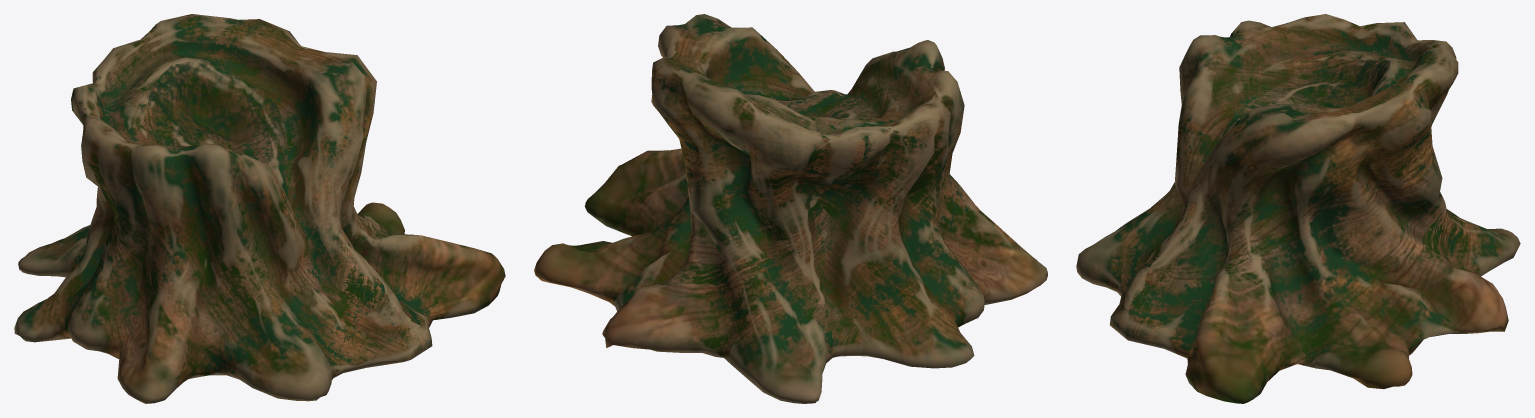
Rendered from tree_stump_model.glb.
3 renders of one model, left to right at view 1: azimuth 30°, elevation 25°; view 2: azimuth 150°, elevation 25°; view 3: azimuth 270°, elevation 25°, orthographic. The views are drawn at different scales.
Parts seen in each view (by area): view 1: Tree_low; view 2: Tree_low; view 3: Tree_low.
Boxes of the visible parts, left/top/right/bottom form: Tree_low: left=14, top=14, right=505, bottom=403; Tree_low: left=534, top=14, right=1047, bottom=403; Tree_low: left=1076, top=14, right=1520, bottom=403.
Bounding box in the file's own units: 442 × 247 × 400.
Materials: 1 (1 with a texture image).
